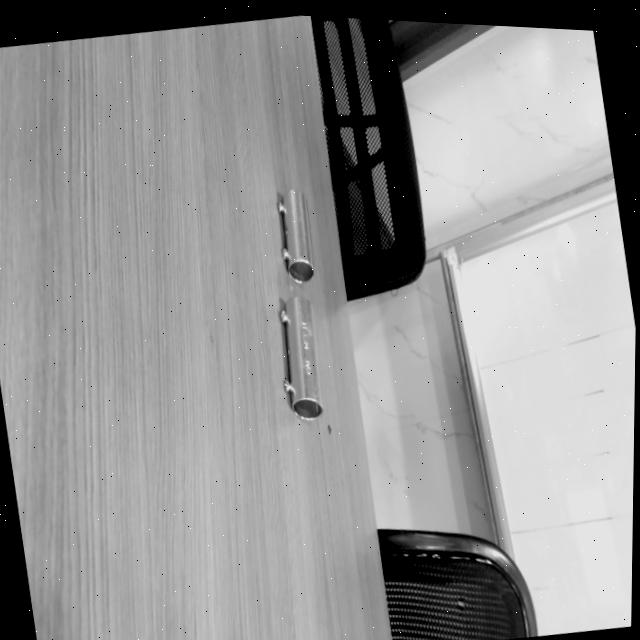Co_Lon: (279, 294, 324, 421)
Co_Nho: (276, 188, 315, 284)
